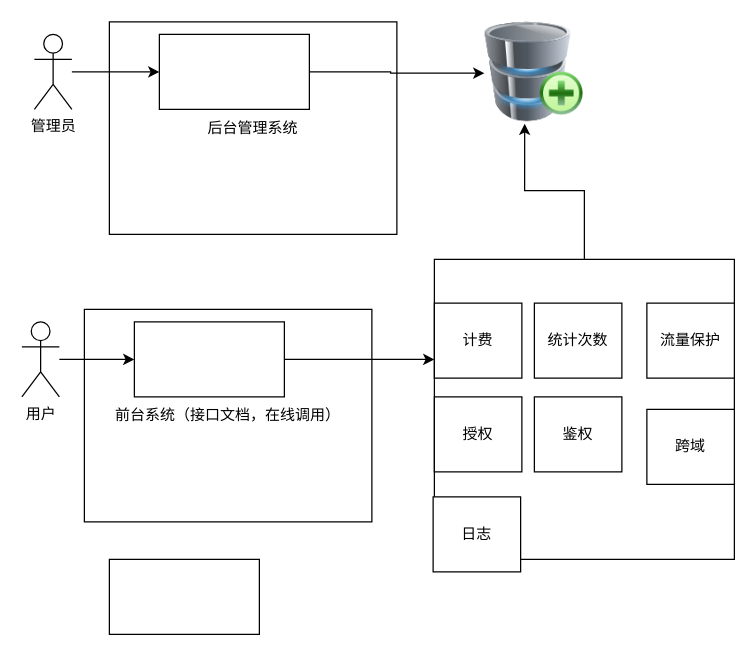
Some shapes in this 756 by 656 pixel diagram are drawn without their labels. The centre of each missing label's shape, as x and y in pixels:
sdk: (x=183, y=596)
发布接口 上线接口 设置接口次数: (x=233, y=71)
浏览接口 开通调用（100次） 调用: (x=208, y=359)
